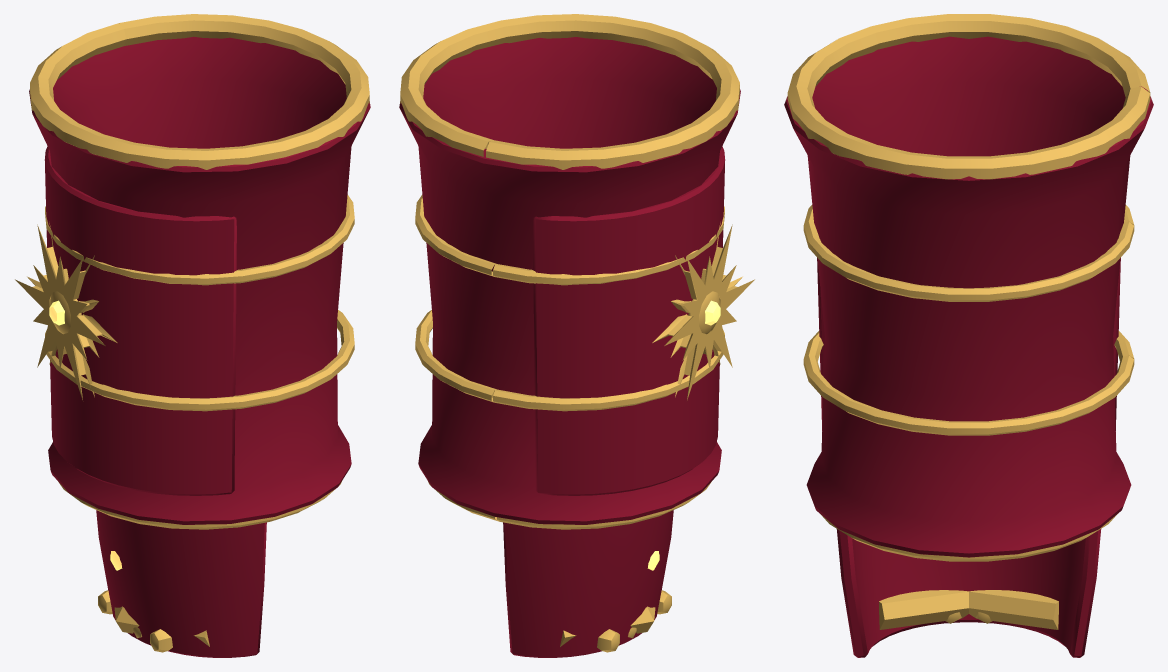
The model's file is boss_crimson_glory_gloves_2.glb.
3 renders of one model, left to right at view 1: azimuth 30°, elevation 25°; view 2: azimuth 150°, elevation 25°; view 3: azimuth 270°, elevation 25°, orthographic. The views are drawn at different scales.
Parts seen in each view (by area): view 1: boss_crimson_glory_gloves_2, AT_hand_R; view 2: boss_crimson_glory_gloves_2, AT_hand_R; view 3: boss_crimson_glory_gloves_2, AT_hand_R.
Part boxes in pixels (x1,y1,x2,y2): boss_crimson_glory_gloves_2: (15,14,370,529); AT_hand_R: (96,510,266,657); boss_crimson_glory_gloves_2: (399,14,754,529); AT_hand_R: (503,510,673,657); boss_crimson_glory_gloves_2: (784,14,1153,561); AT_hand_R: (836,529,1101,657).
Size of the model in its own units: 0.1974 by 0.3408 by 0.2004.
